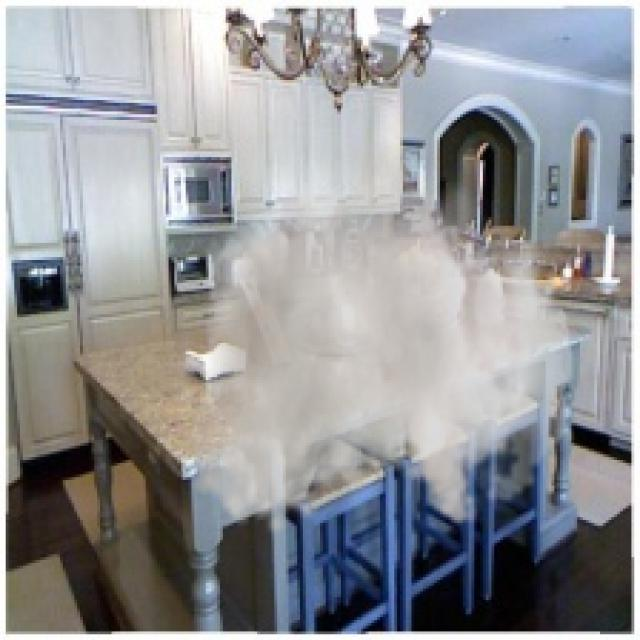smoke: (189, 126, 574, 537)
